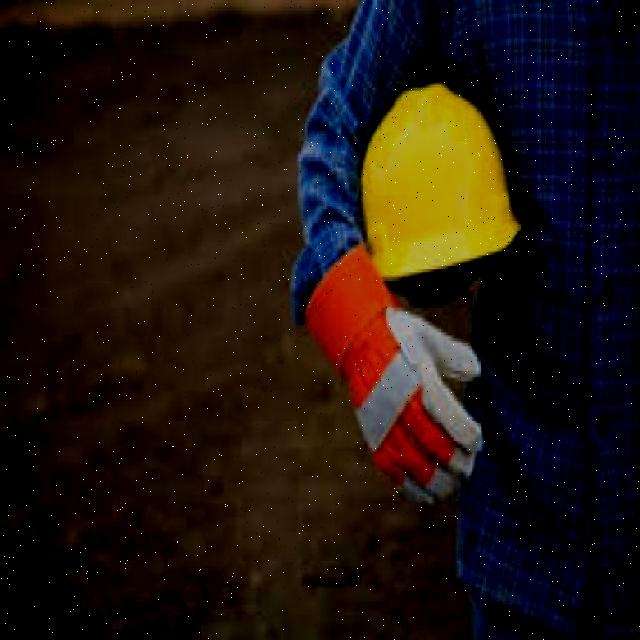Gloves: (302, 253, 478, 518)
Helmet: (360, 83, 522, 280)
